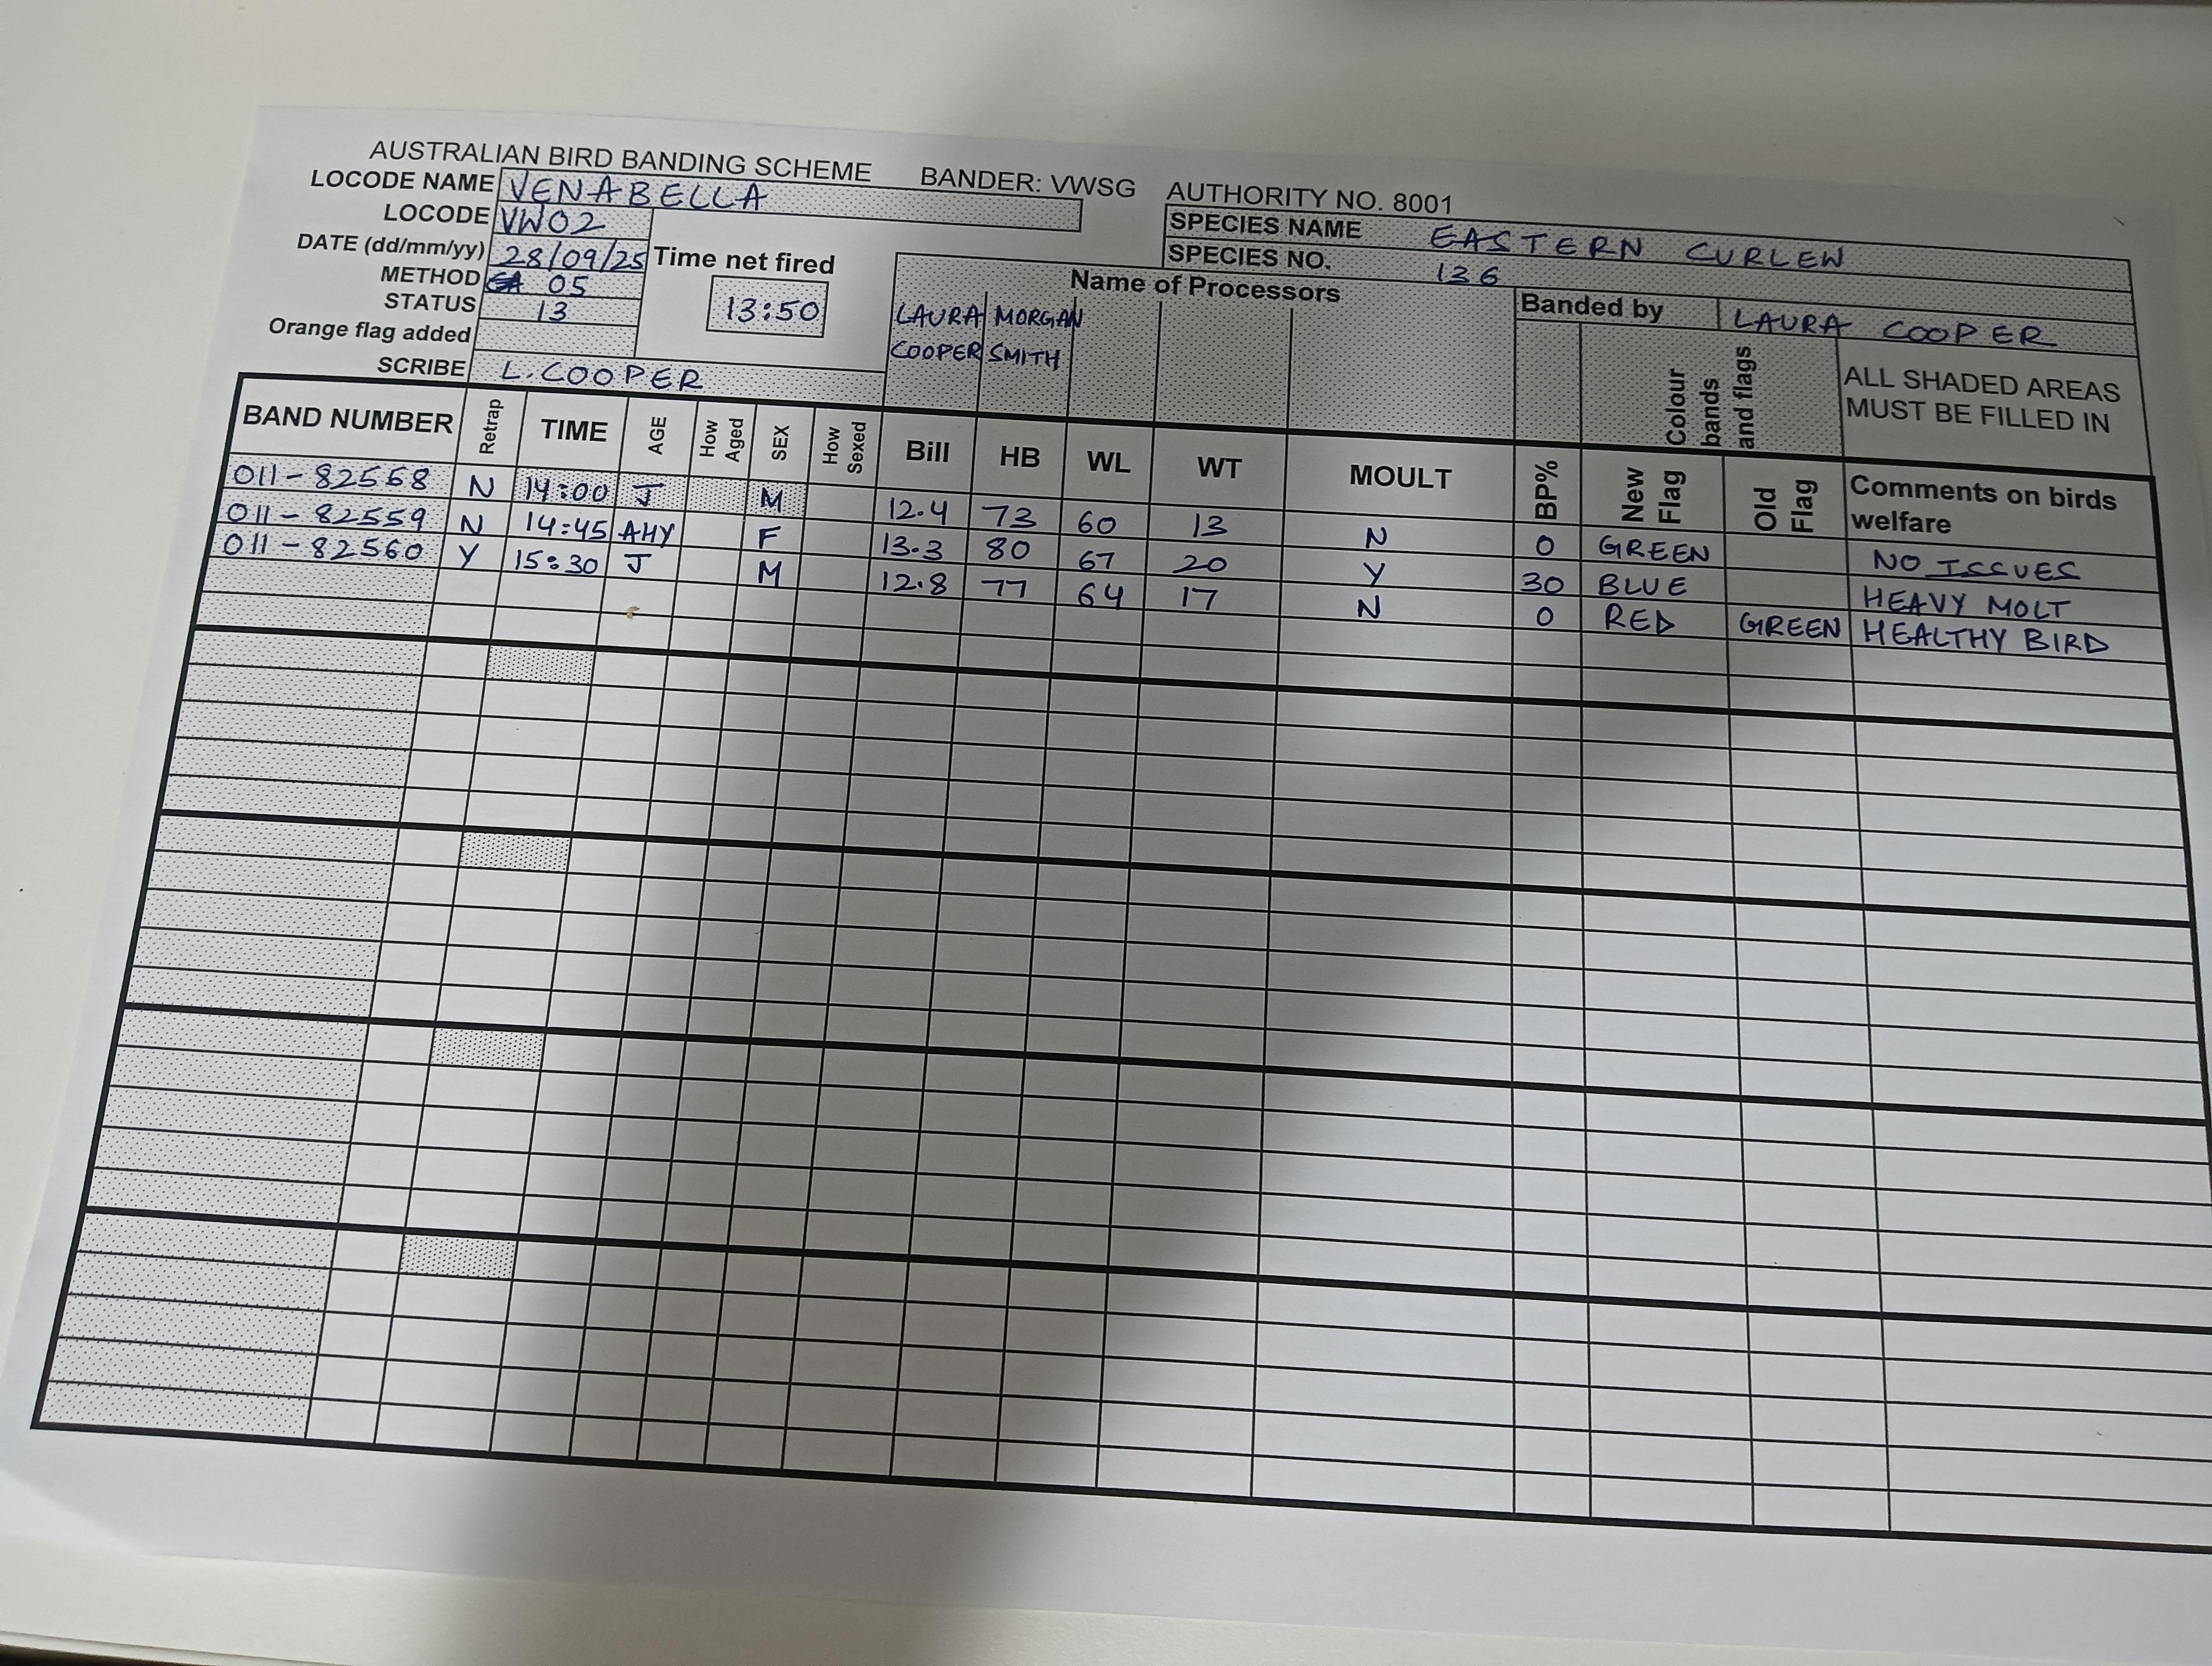BANDED_BY: (1514, 287, 2144, 357)
DATA: (210, 521, 2174, 663), (215, 488, 2174, 630), (220, 455, 2160, 593)
DATE: (643, 233, 866, 348), (287, 226, 657, 276)
LOCOCODE: (374, 194, 677, 235)
LOCOCODE_NAME: (287, 157, 1088, 242)
METHOD: (365, 264, 654, 305)
NAME_OF_PROCESSORS: (888, 282, 991, 415), (977, 285, 1077, 420)
ORANGE_FLAG_ADDED: (262, 315, 675, 357)
SCRIBE: (357, 350, 888, 406)
SPECIES_NAME: (1159, 210, 2130, 289)
SPECIES_NO: (1158, 235, 2137, 324)
STATUS: (378, 289, 664, 331)
